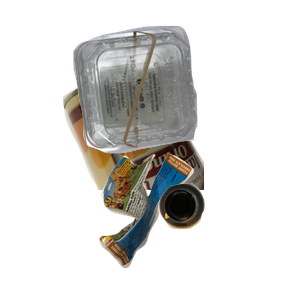glass: (156, 181, 300, 300)
metal: (60, 58, 300, 238)
plastic: (71, 23, 300, 169)
trash: (97, 151, 283, 300)
